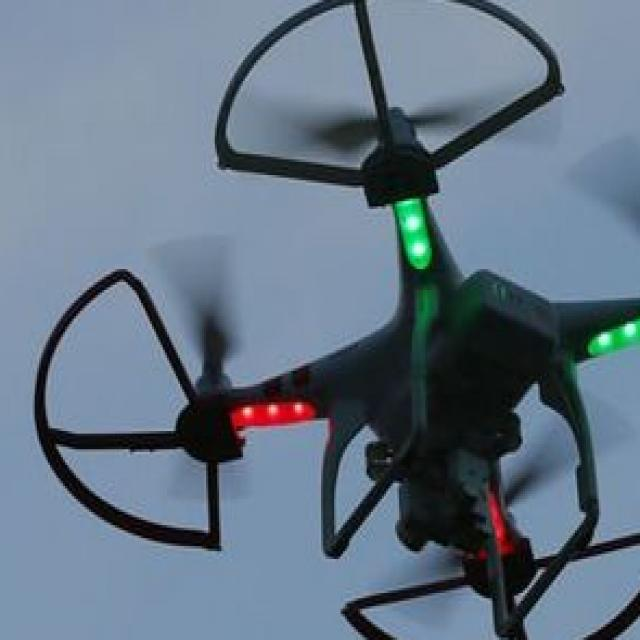drone: (28, 15, 640, 640)
